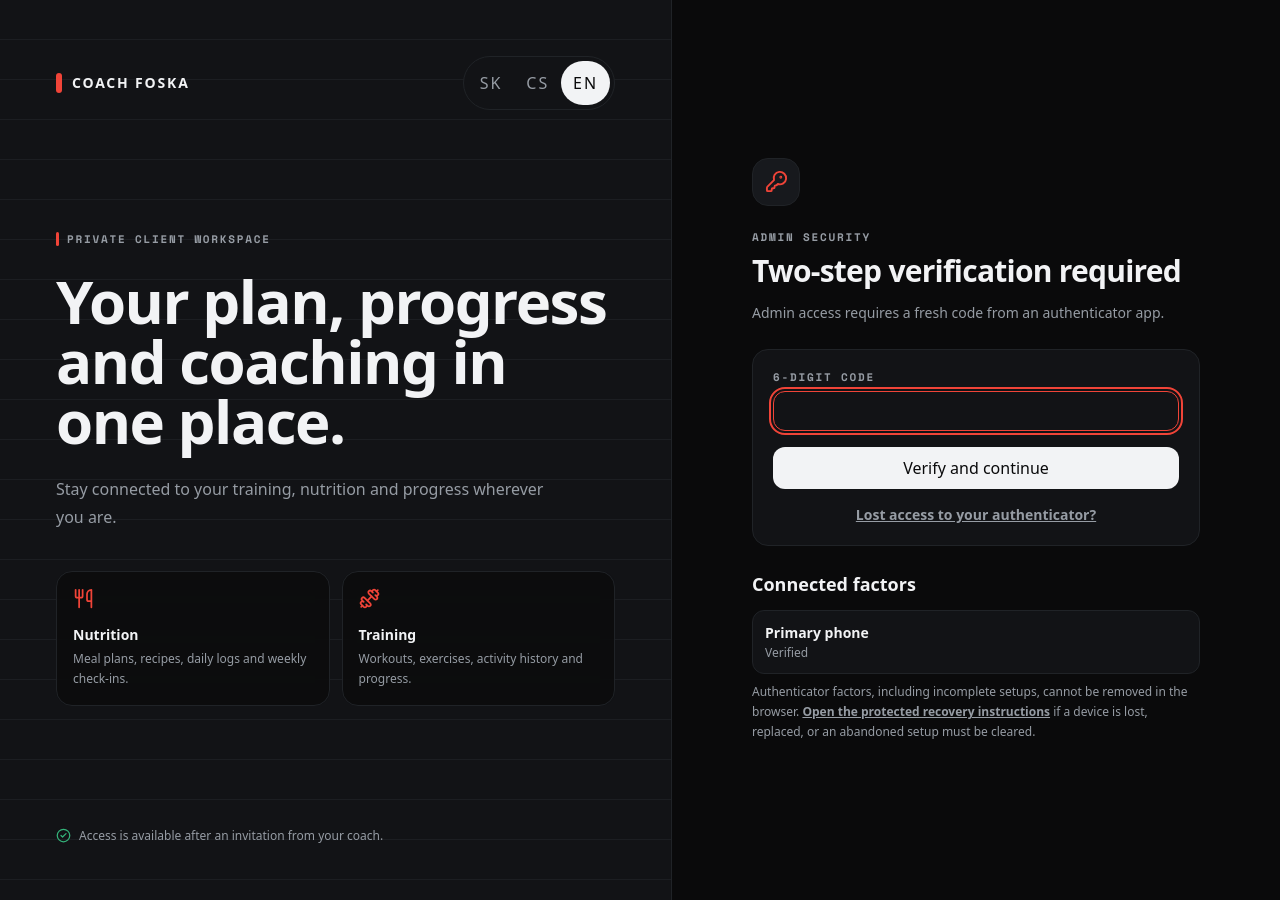
AdminMfa › shows verification errors without opening admin content
Type "111111" into the field labelled "6-digit code" at (976, 411), box 773,391 -> 1179,431
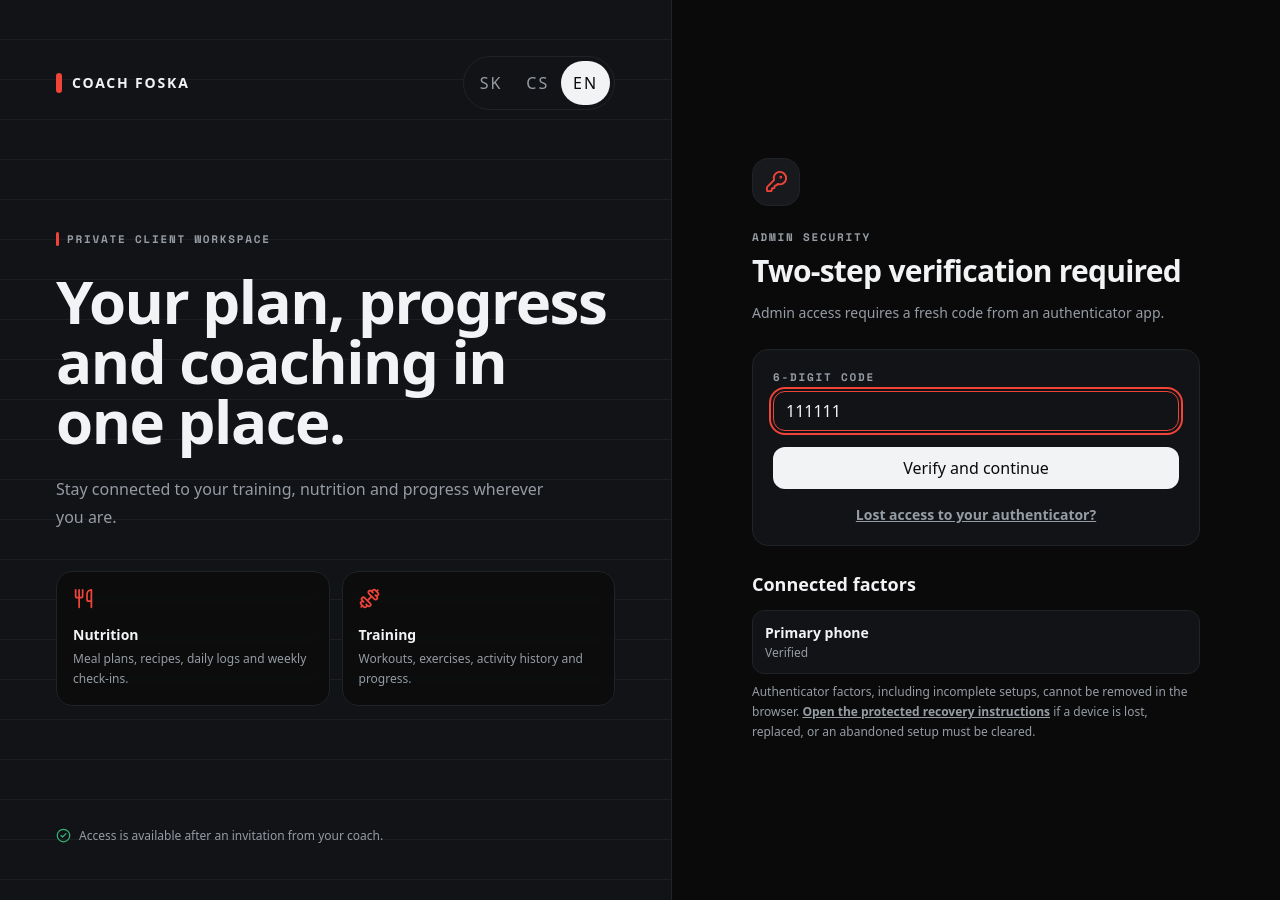
Click the button "Verify and continue" at (976, 468), box 773,447 -> 1179,489
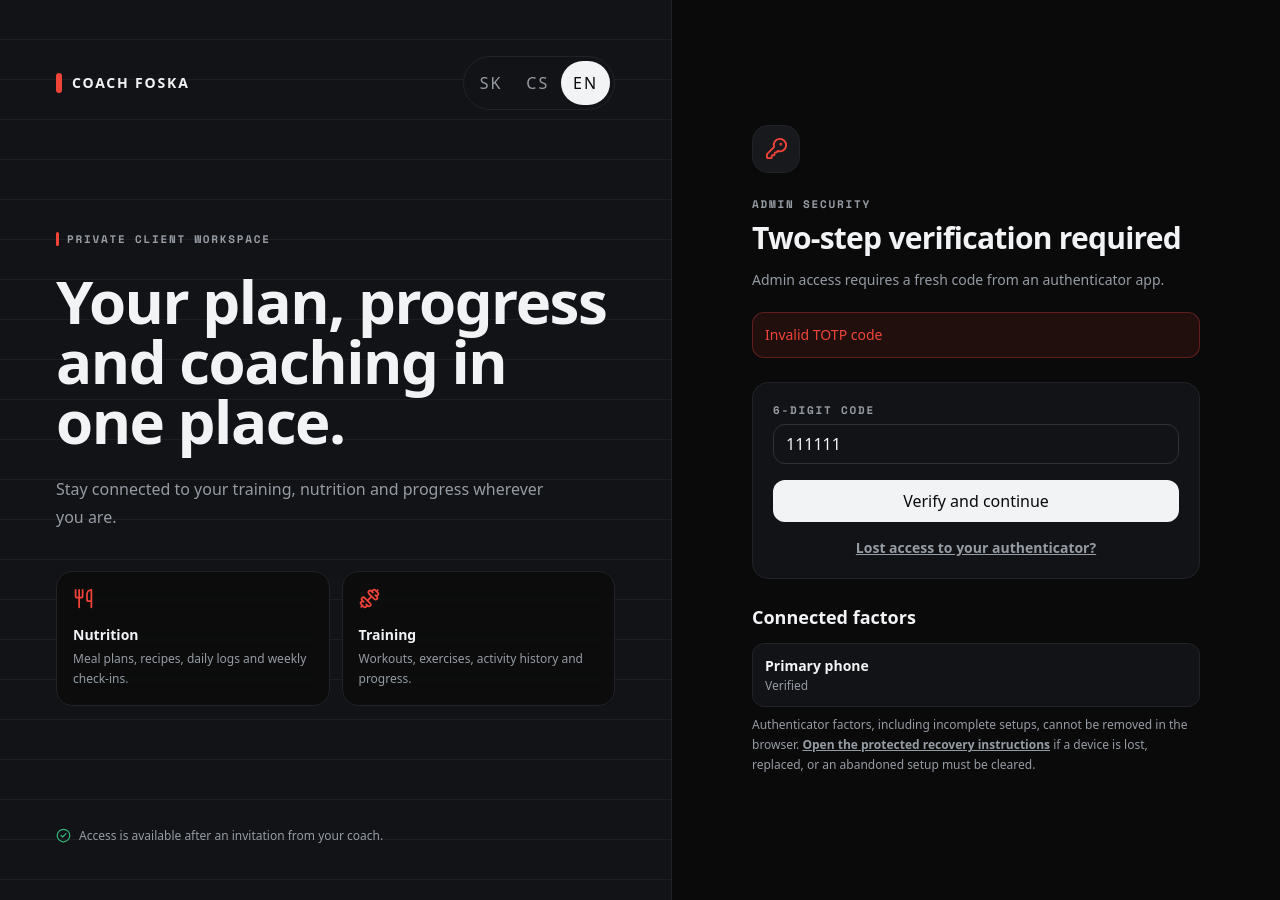
Expected: the message reads "Invalid TOTP code", 765,325 -> 882,344
